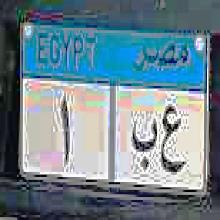1: (60, 89, 75, 168)
ain: (160, 101, 185, 178)
baa: (131, 114, 159, 179)
